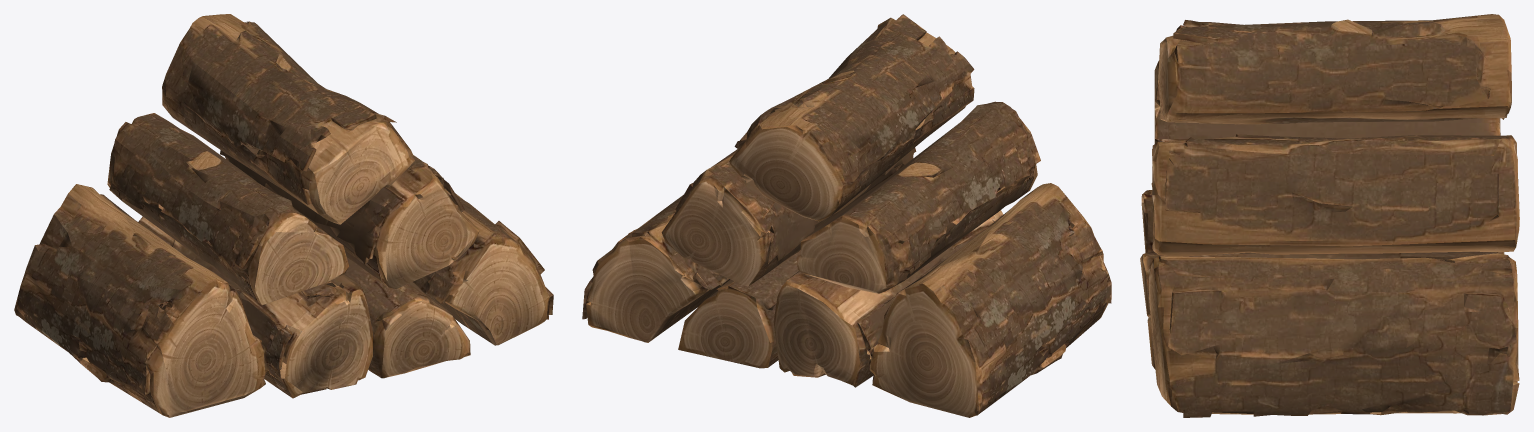
File: log-pile.glb
The picture shows the model from 3 angles, left to right: view 1: azimuth 30°, elevation 25°; view 2: azimuth 150°, elevation 25°; view 3: azimuth 270°, elevation 25°; orthographic projection. The views are drawn at different scales.
Visible parts, largest first — view 1: Mesh0; view 2: Mesh0; view 3: Mesh0.
Boxes of the visible parts, x1,y1,x2,y2 form: Mesh0: [14, 14, 553, 417]; Mesh0: [582, 14, 1111, 417]; Mesh0: [1140, 14, 1519, 417].
Bounding box in the file's own units: 1.2 × 0.7439 × 0.8658.
1 material, 1 textured.
